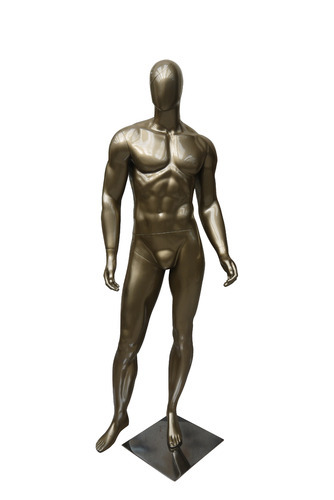person-like: (88, 49, 248, 456)
